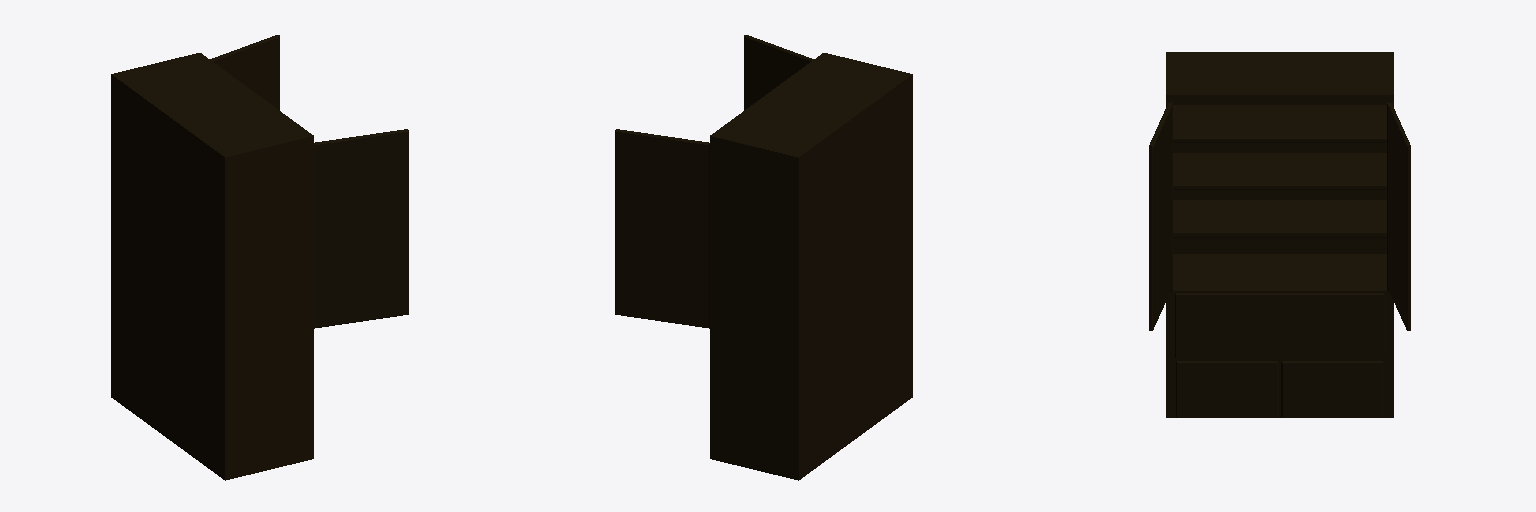
Rendered from Cabinet.obj.
3 views of the same model, side by side, from view 1: azimuth 30°, elevation 25°; view 2: azimuth 150°, elevation 25°; view 3: azimuth 270°, elevation 25° (orthographic).
Parts seen in each view (by area): view 1: Cabinet; view 2: Cabinet; view 3: Cabinet.
Boxes of the visible parts, x1=… form: Cabinet: x1=111, y1=35, x2=408, y2=480; Cabinet: x1=615, y1=35, x2=912, y2=480; Cabinet: x1=1149, y1=52, x2=1410, y2=417.
Size of the model in its own units: 4.93 by 8.66 by 6.38.